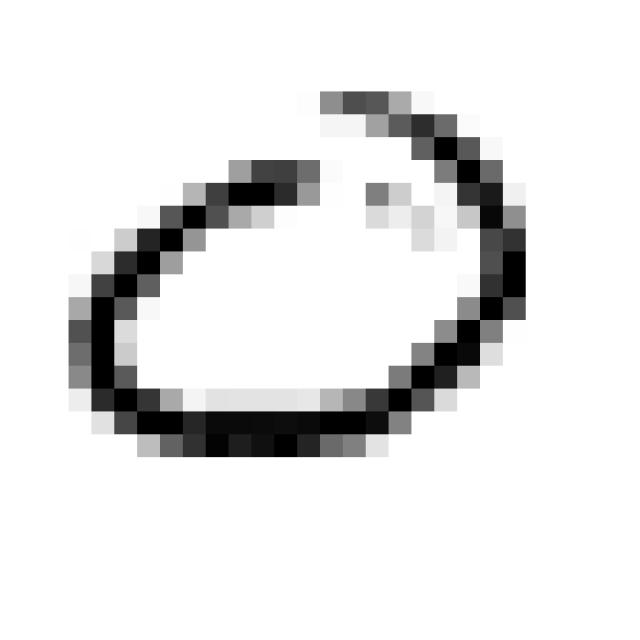5 -five-: (57, 57, 542, 473)
